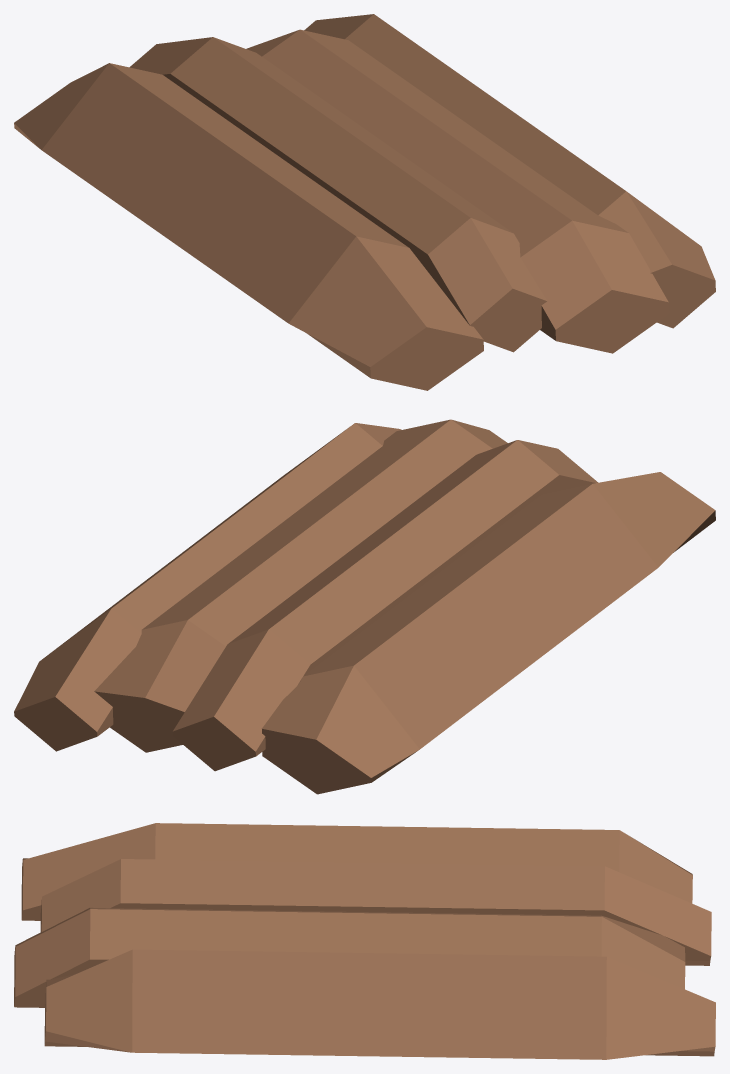
Rendered from Feld.fbx.
3 renders of one model, top to bottom at view 1: azimuth 30°, elevation 25°; view 2: azimuth 150°, elevation 25°; view 3: azimuth 270°, elevation 25°, orthographic. The views are drawn at different scales.
Parts seen in each view (by area): view 1: Cylinder; view 2: Cylinder; view 3: Cylinder.
Boxes of the visible parts, box(x1,y1,x2,y2) form: Cylinder: box(14, 14, 715, 390); Cylinder: box(14, 419, 715, 794); Cylinder: box(14, 823, 715, 1059).
Bounding box in the file's own units: 808 × 252 × 1304.
